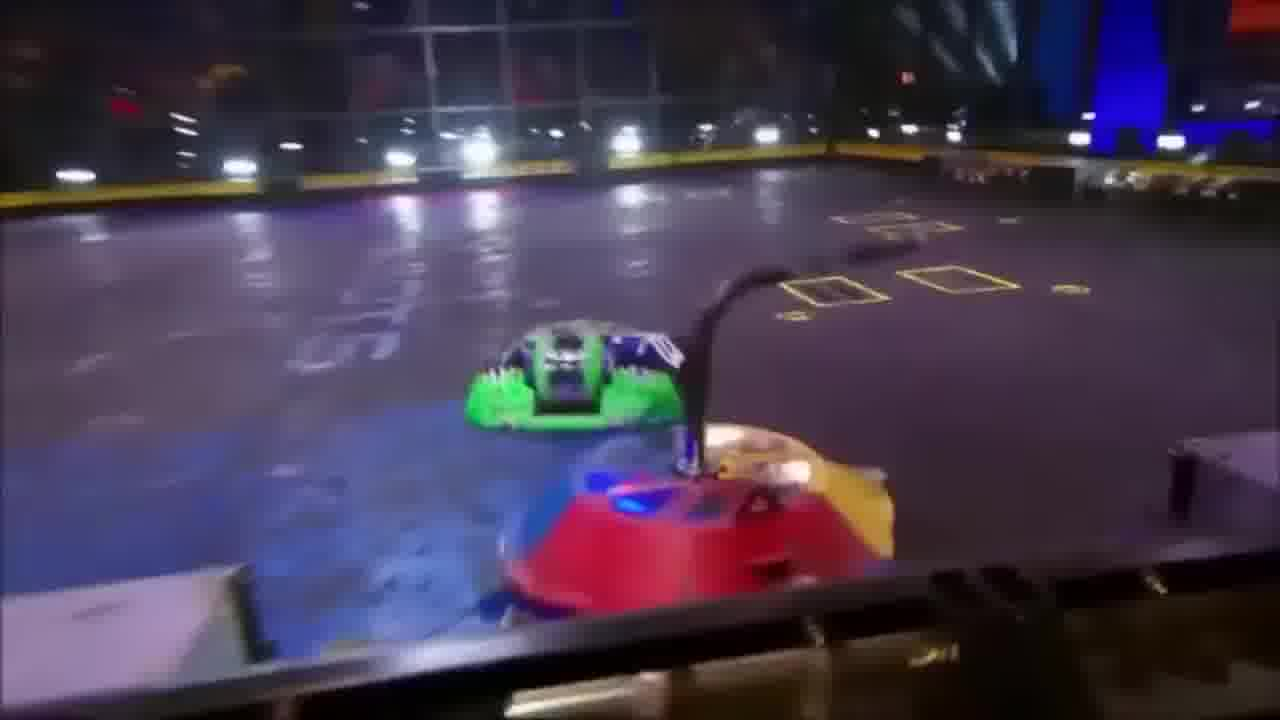combatbot: (510, 418, 891, 615), (462, 317, 689, 434)
